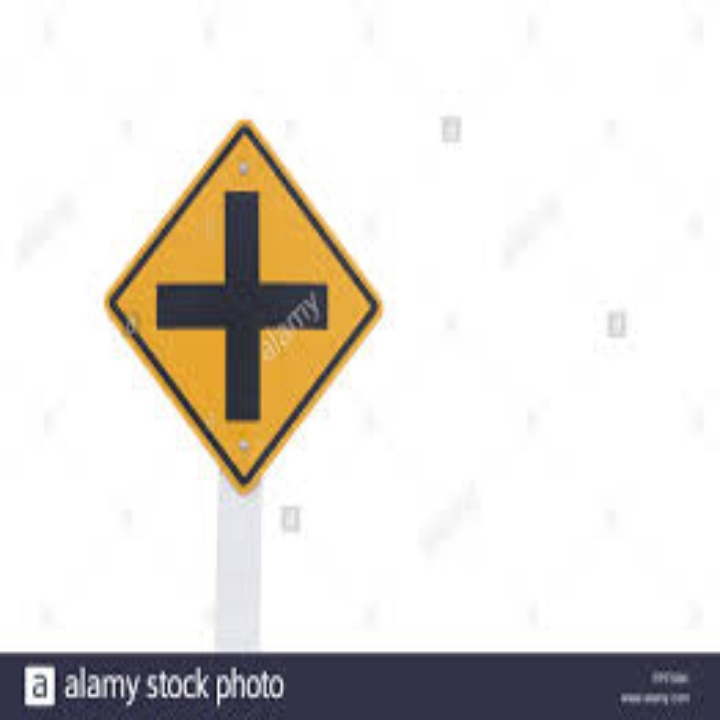inter: (155, 177, 341, 419)
